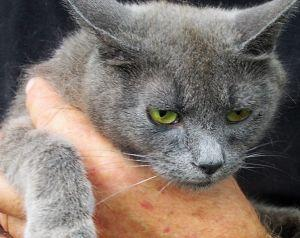rblue: (72, 1, 296, 200)
